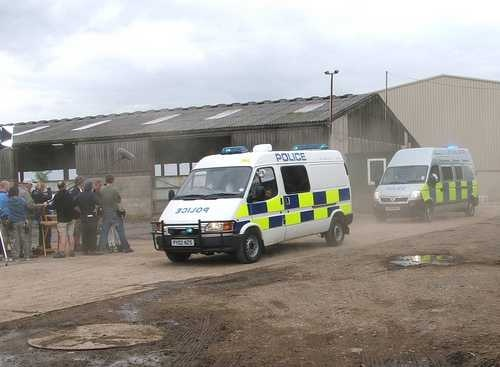Police Van: (135, 132, 357, 263), (381, 144, 497, 218)
